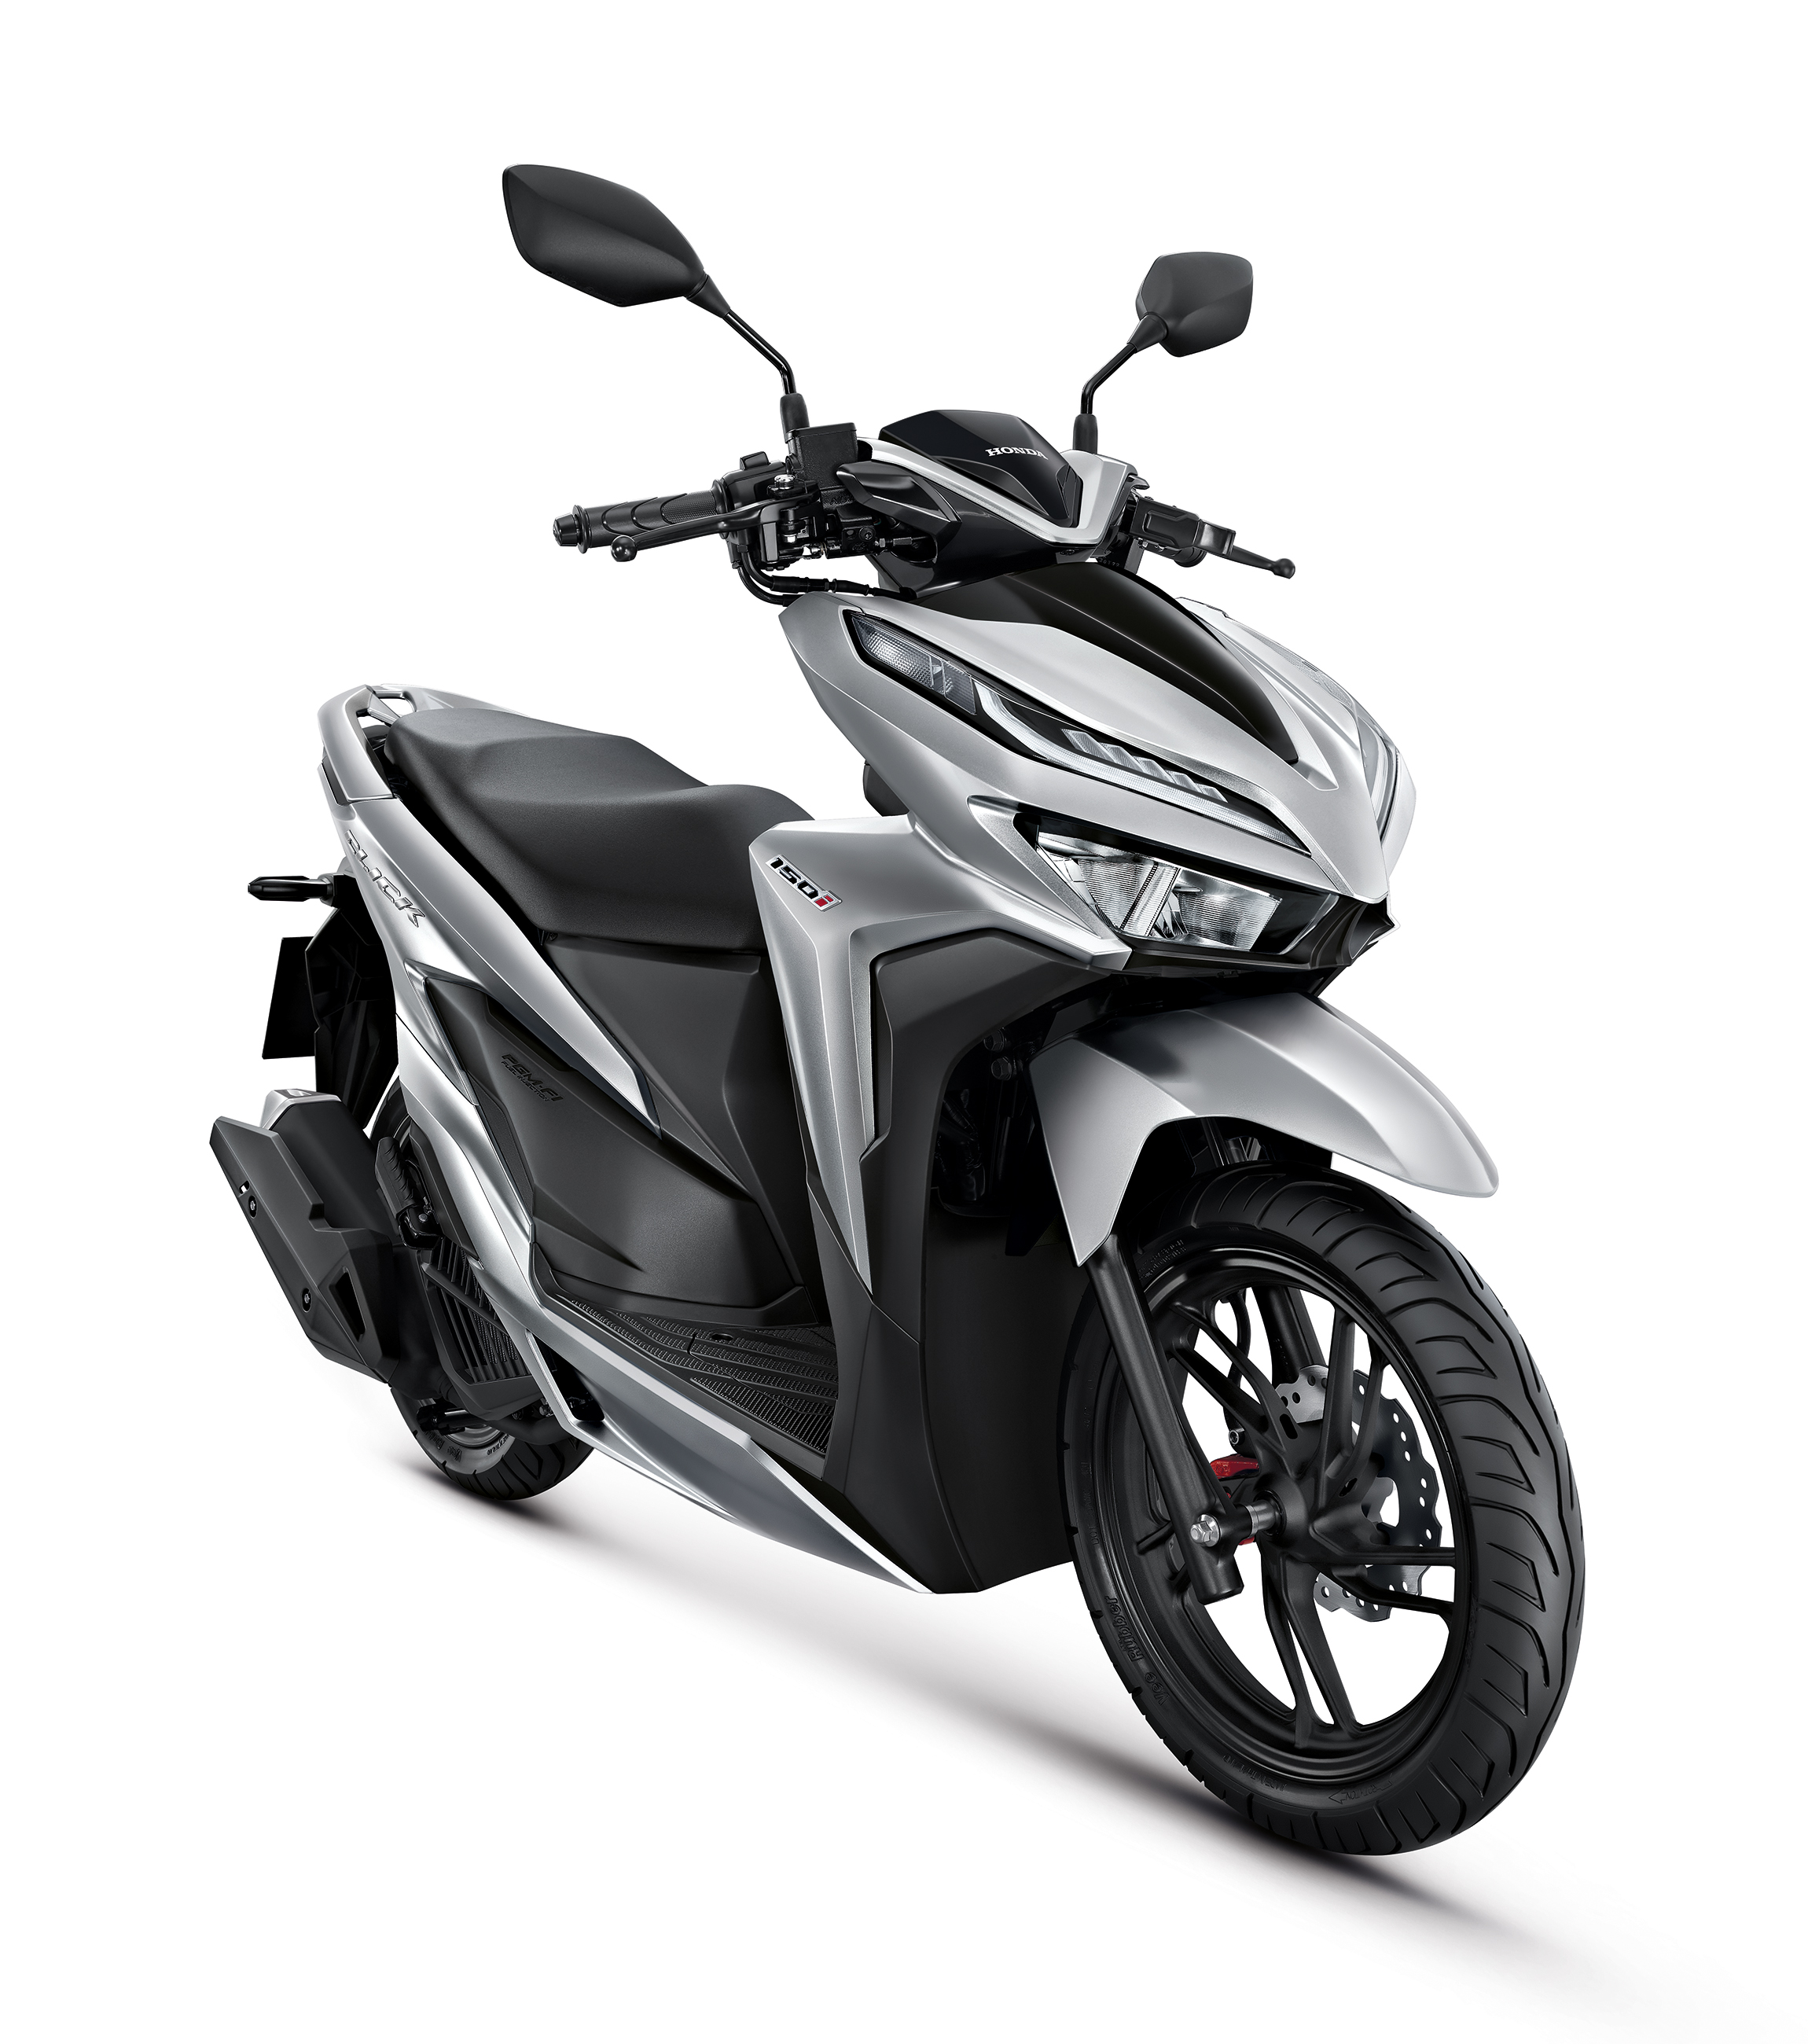motorcycle: (248, 393, 1588, 1878)
